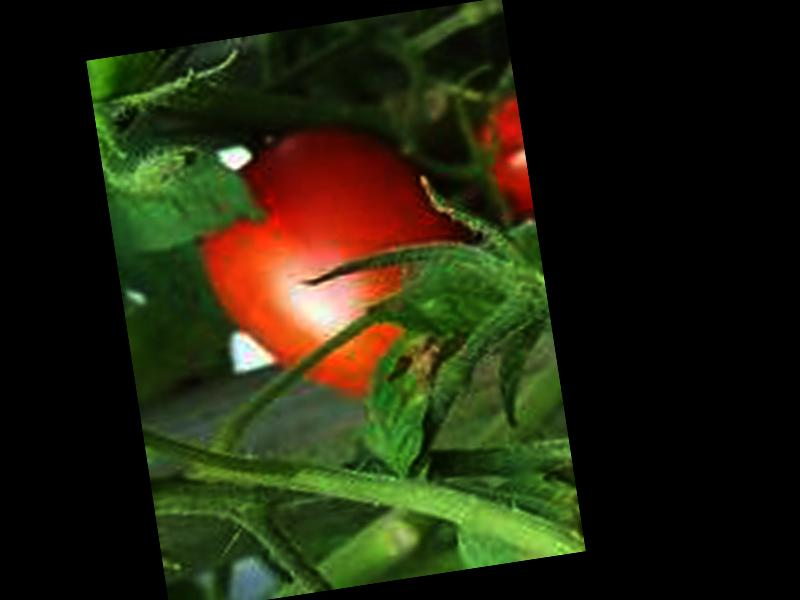Tomato: (184, 110, 478, 411)
